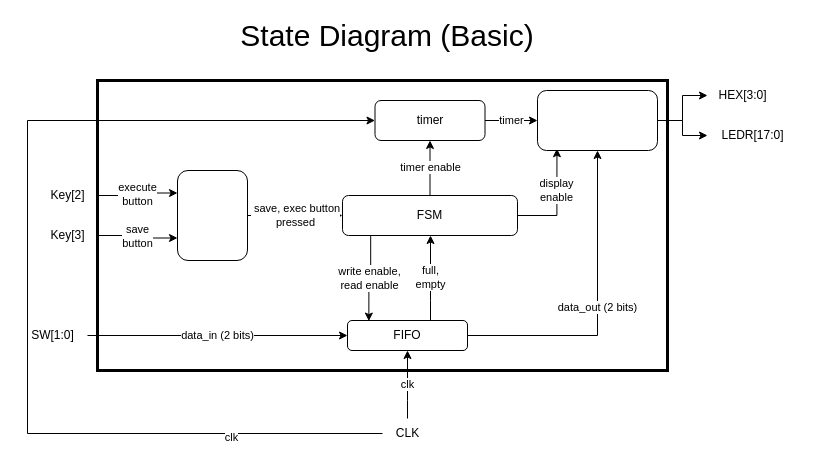
This 814x465 diagram has some shape labels left out. Each missing label, with the centre of its shape:
debounce: the point at 212,215
display: the point at 597,120
